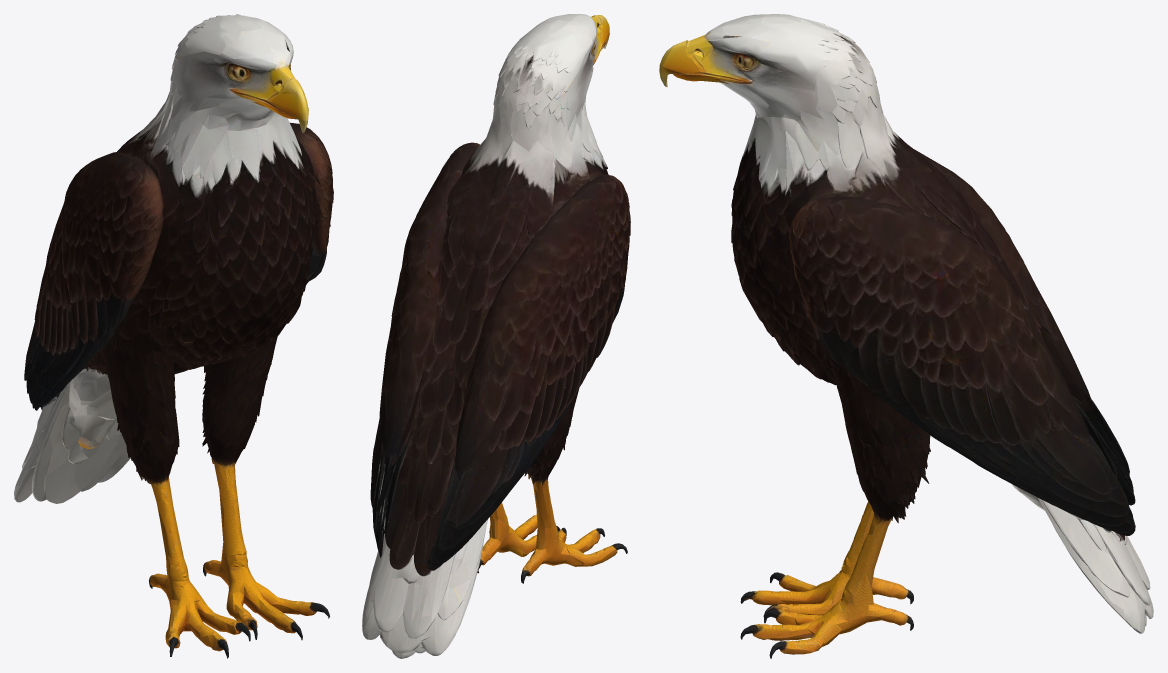
Rendered from bald-eagle.glb.
3 views of the same model, side by side, from view 1: azimuth 30°, elevation 25°; view 2: azimuth 150°, elevation 25°; view 3: azimuth 270°, elevation 25° (orthographic). The views are drawn at different scales.
Bounding box in the file's own units: 0.7264 × 1.9 × 1.41.
Materials: 1 (1 with a texture image).
